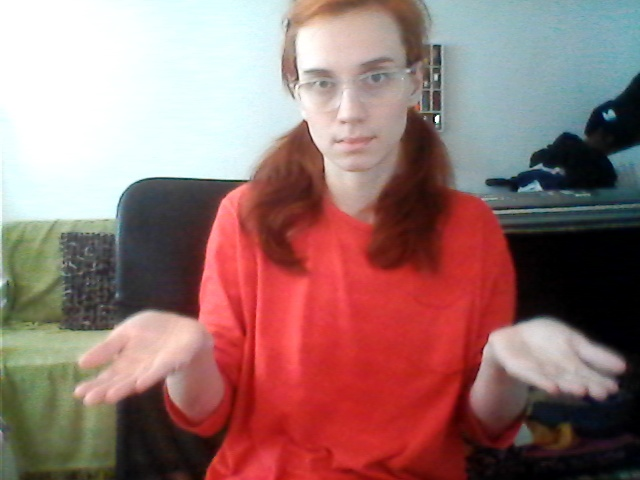alebo: (69, 303, 630, 413)
